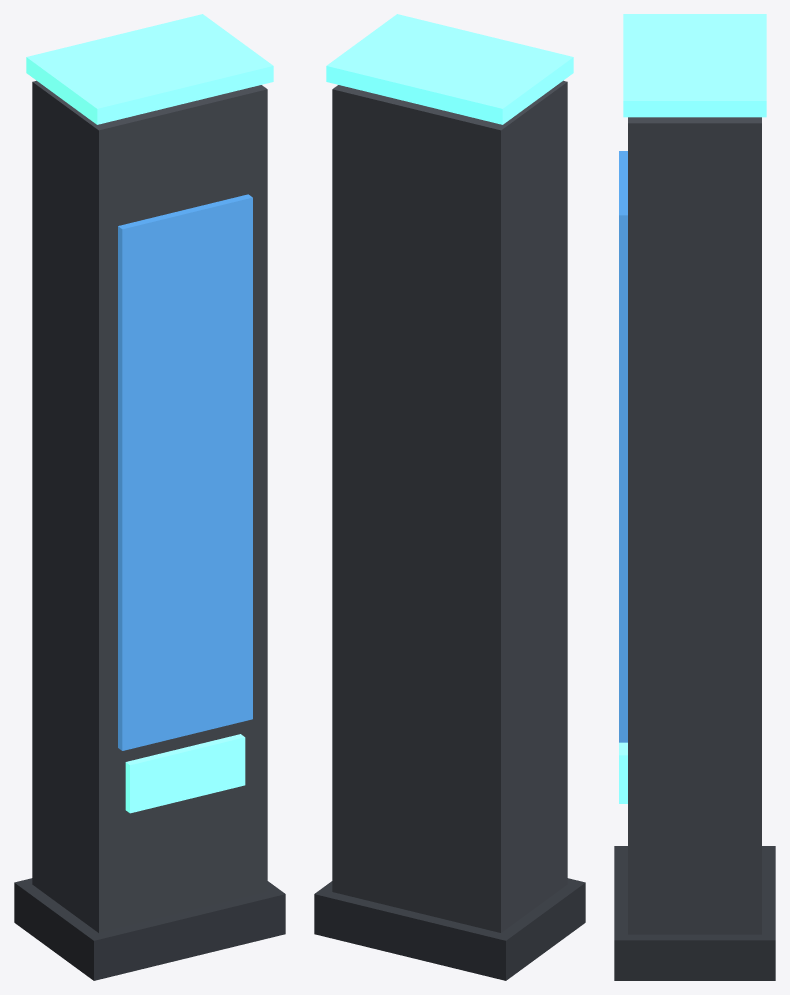
File: info_totem.glb
3 renders of one model, left to right at view 1: azimuth 30°, elevation 25°; view 2: azimuth 150°, elevation 25°; view 3: azimuth 270°, elevation 25°, orthographic.
Parts seen in each view (by area): view 1: part_body, part_screen, part_cap_glow, part_base, part_logo; view 2: part_body, part_cap_glow, part_base; view 3: part_body, part_cap_glow, part_base, part_screen, part_logo.
Boxes of the visible parts, x1=… form: part_body: x1=32, y1=80, x2=267, y2=932; part_screen: x1=118, y1=194, x2=252, y2=750; part_cap_glow: x1=26, y1=14, x2=273, y2=124; part_base: x1=14, y1=878, x2=285, y2=980; part_logo: x1=125, y1=734, x2=245, y2=813; part_body: x1=332, y1=80, x2=567, y2=932; part_cap_glow: x1=326, y1=14, x2=573, y2=124; part_base: x1=314, y1=878, x2=585, y2=980; part_body: x1=628, y1=117, x2=761, y2=934; part_cap_glow: x1=623, y1=14, x2=766, y2=117; part_base: x1=614, y1=846, x2=775, y2=980; part_screen: x1=619, y1=151, x2=627, y2=742; part_logo: x1=619, y1=742, x2=627, y2=803.
Bounding box in the file's own units: 0.5 × 2.16 × 0.36.
